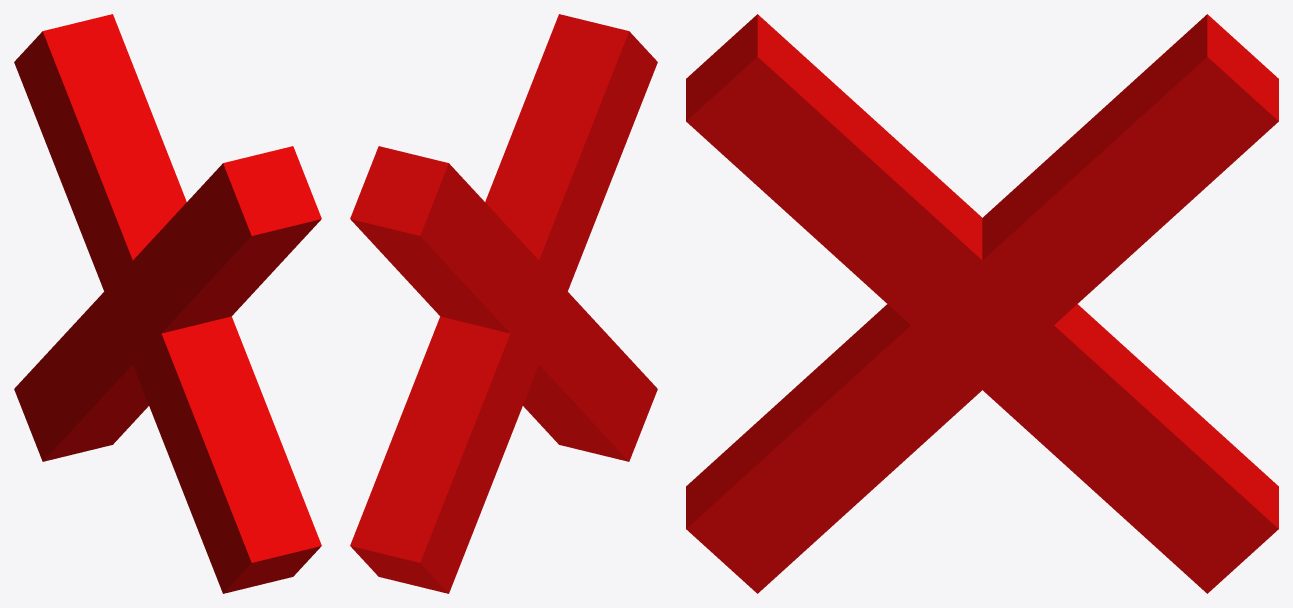
The model's file is bloqueio_fases.fbx.
The picture shows the model from 3 angles, left to right: view 1: azimuth 30°, elevation 25°; view 2: azimuth 150°, elevation 25°; view 3: azimuth 270°, elevation 25°; orthographic projection. The views are drawn at different scales.
Parts seen in each view (by area): view 1: polySurface1; view 2: polySurface1; view 3: polySurface1.
Boxes of the visible parts, bbox=[...] form: polySurface1: bbox=[14, 14, 321, 593]; polySurface1: bbox=[350, 14, 657, 593]; polySurface1: bbox=[686, 14, 1278, 593].
Size of the model in its own units: 1 by 5.86 by 5.86.
